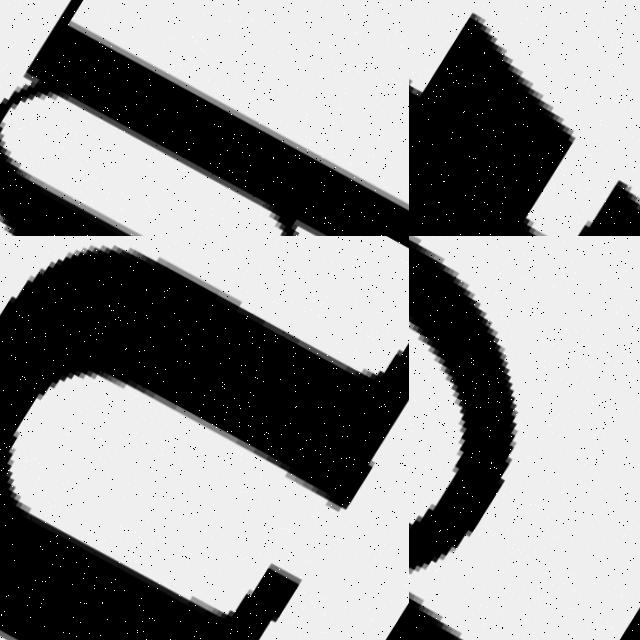N: (0, 236, 409, 640)
P: (409, 239, 516, 580)
Q: (0, 0, 409, 236)
T: (409, 0, 640, 236)
